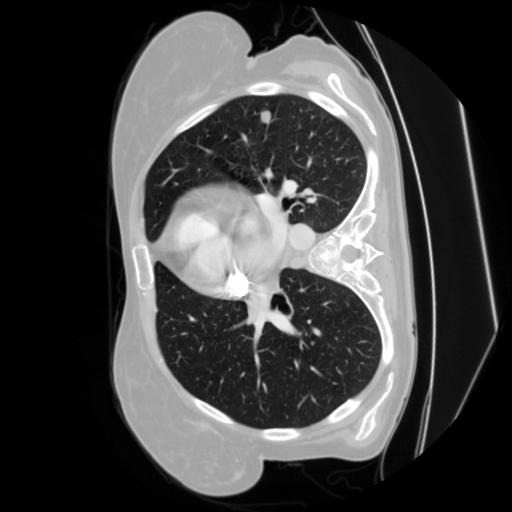nodule: (257, 109, 275, 127)
